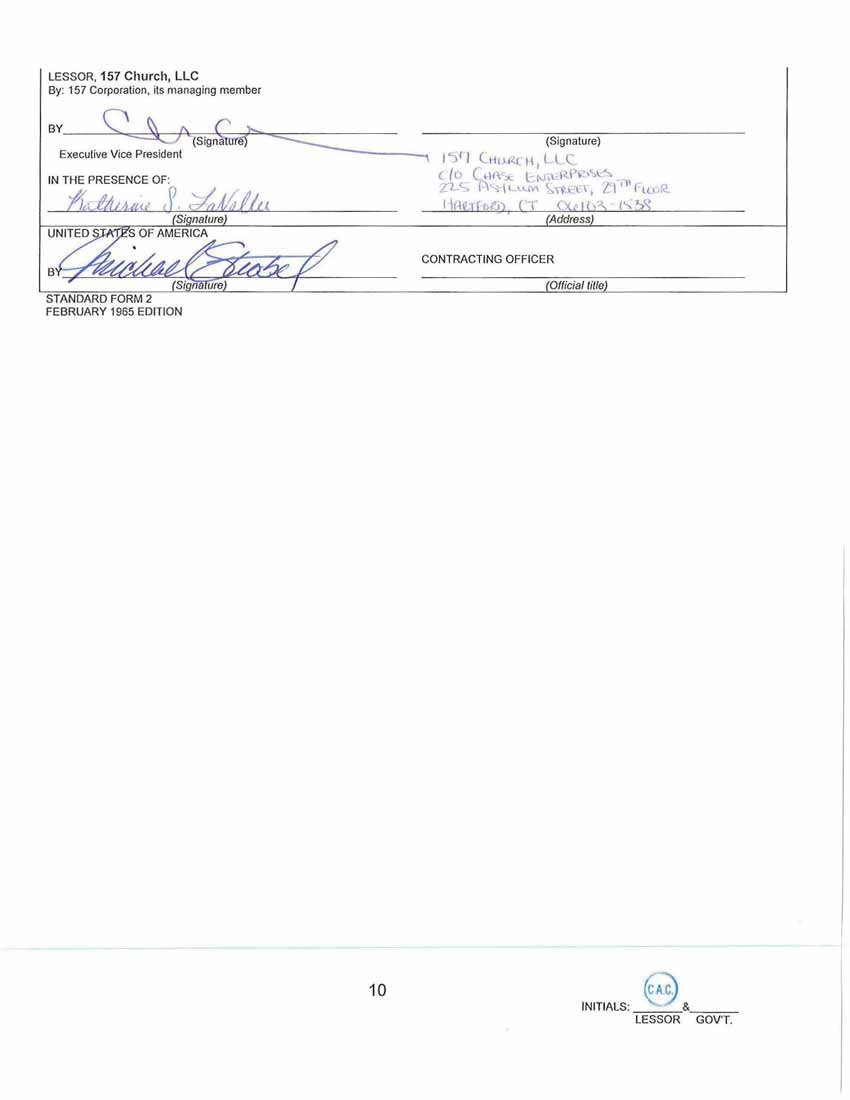handwritten: (92, 95, 433, 156), (430, 144, 678, 217), (55, 237, 340, 296), (59, 183, 281, 218)
